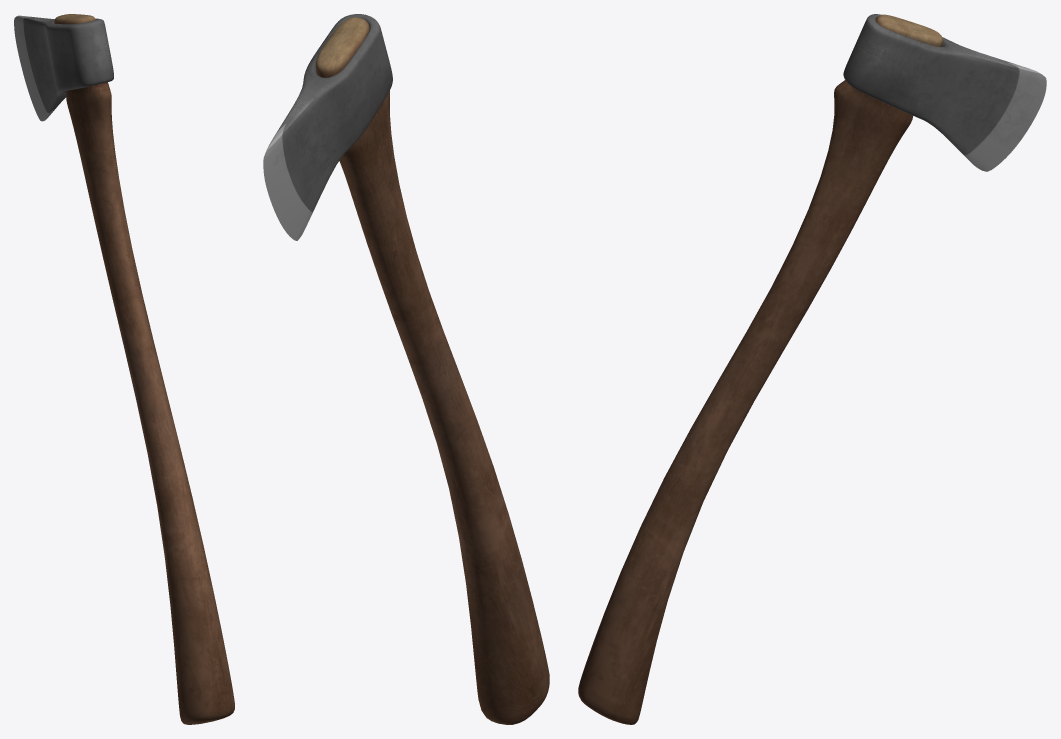
3 renders of one model, left to right at view 1: azimuth 30°, elevation 25°; view 2: azimuth 150°, elevation 25°; view 3: azimuth 270°, elevation 25°, orthographic. The views are drawn at different scales.
Visible parts, largest first — view 1: Cube.002, Cube.003; view 2: Cube.002, Cube.003; view 3: Cube.002, Cube.003.
Part boxes in pixels (left/top/right/bottom): Cube.002: left=54, top=14, right=234, bottom=724; Cube.003: left=14, top=15, right=113, bottom=121; Cube.002: left=315, top=17, right=549, bottom=724; Cube.003: left=263, top=14, right=392, bottom=240; Cube.002: left=578, top=14, right=943, bottom=724; Cube.003: left=843, top=14, right=1046, bottom=171.
Size of the model in its own units: 0.413 by 5.24 by 3.16.
Materials: 1 (1 with a texture image).
